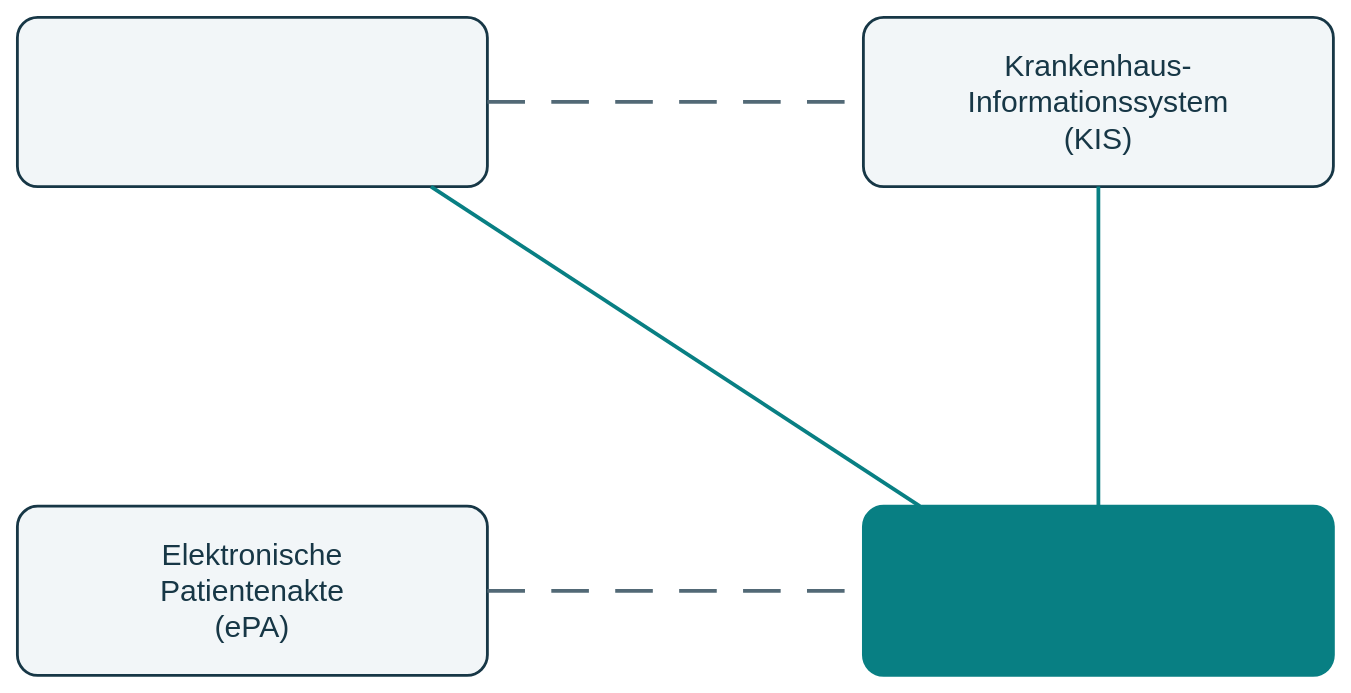
The diagram is 1351 pixels wide and 693 high, and some of its shapes have lost their labels. The shapes that lost their labels are listed below. From the top down, each one's centre as x and y in pixels, then its label:
At point 252,102: "Zentrales Vorsorgeregister (ZVR)".
At point 1098,590: "VORAKAT".
